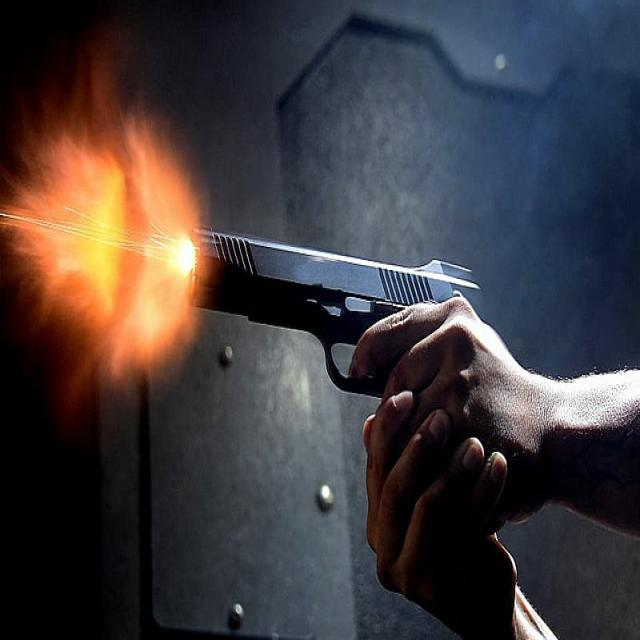handgun: (189, 216, 481, 564), (190, 225, 485, 530)
